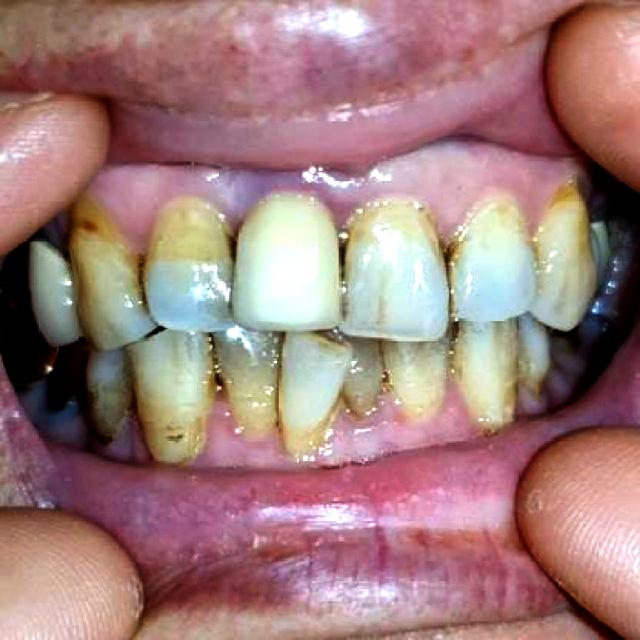Plaque: (191, 377, 477, 472), (368, 168, 563, 240), (182, 173, 365, 234), (91, 185, 169, 256), (111, 413, 148, 454), (158, 426, 191, 449)
